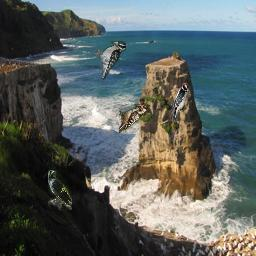Crow: (48, 170, 72, 210)
Woodpecker: (93, 41, 126, 81), (119, 104, 147, 133), (171, 83, 190, 123)
